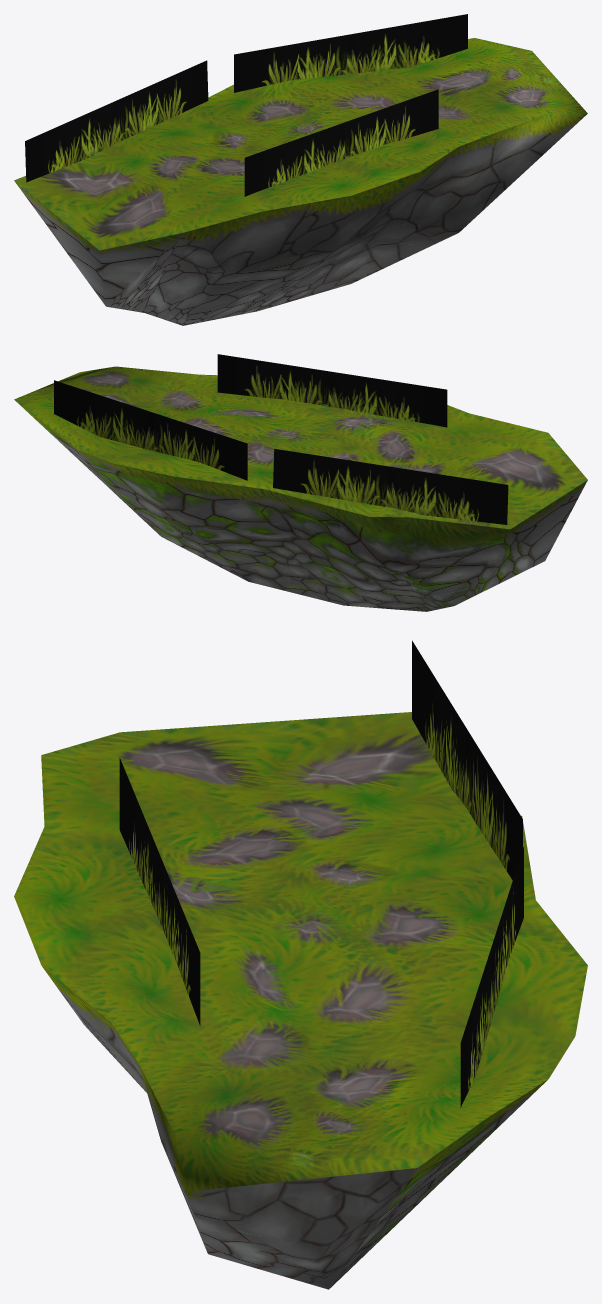
File: platform (1).fbx
The picture shows the model from 3 angles, top to bottom: view 1: azimuth 30°, elevation 25°; view 2: azimuth 150°, elevation 25°; view 3: azimuth 270°, elevation 25°; orthographic projection. The views are drawn at different scales.
Visible parts, largest first — view 1: Plane_2; view 2: Plane_2; view 3: Plane_2.
Part boxes in pixels (x1,y1,x2,y2): Plane_2: (14,14,587,325); Plane_2: (14,354,587,611); Plane_2: (14,640,587,1289).
Size of the model in its own units: 330 by 125 by 171.
Materials: 1 (1 with a texture image).
